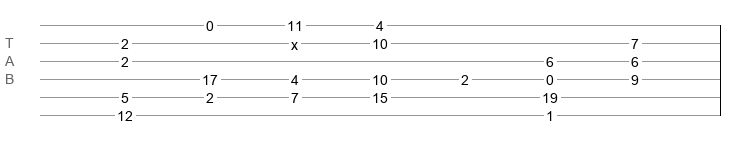0: (206, 18, 214, 28), (546, 72, 554, 82)
1: (546, 108, 554, 118)
10: (372, 72, 388, 82), (372, 36, 388, 46)
11: (287, 18, 303, 28)
12: (117, 108, 133, 118)
15: (372, 90, 388, 100)
17: (202, 72, 218, 82)
19: (542, 90, 558, 100)
2: (121, 36, 129, 46), (121, 54, 129, 64), (206, 90, 214, 100), (461, 72, 469, 82)
4: (291, 72, 299, 82), (376, 18, 384, 28)
5: (121, 90, 129, 100)
6: (546, 54, 554, 64), (631, 54, 639, 64)
7: (291, 90, 299, 100), (631, 36, 639, 46)
9: (631, 72, 639, 82)
x: (291, 37, 298, 45)
